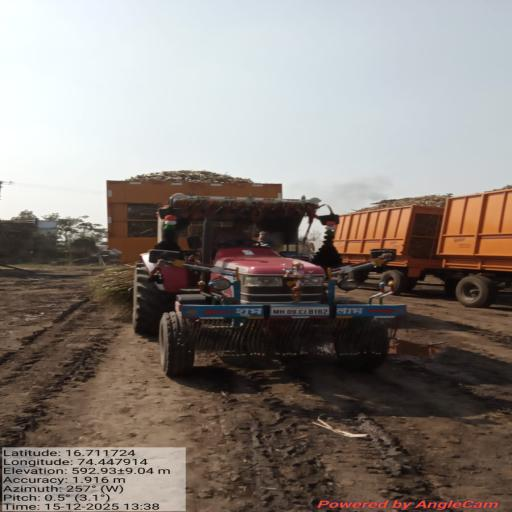number_plate: (262, 304, 338, 321)
